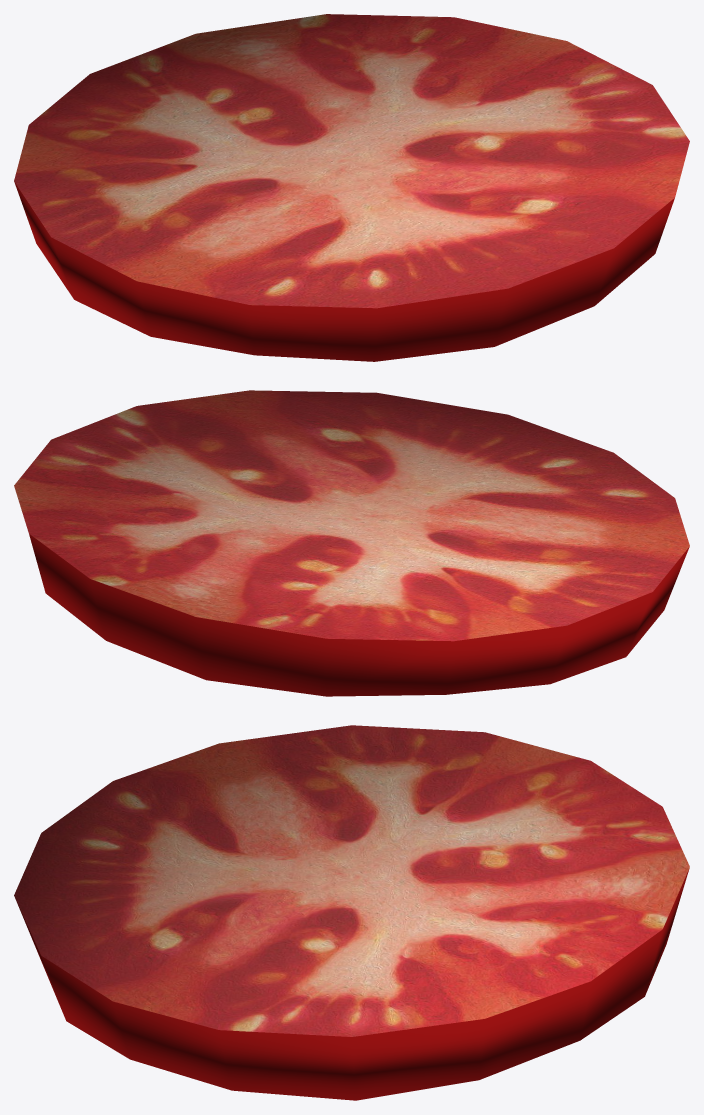
File: TOMATE FINAL.fbx
3 views of the same model, one above another, from view 1: azimuth 30°, elevation 25°; view 2: azimuth 150°, elevation 25°; view 3: azimuth 270°, elevation 25° (orthographic). The views are drawn at different scales.
Visible parts, largest first — view 1: TOMATE FINAL; view 2: TOMATE FINAL; view 3: TOMATE FINAL.
Boxes of the visible parts, x1,y1,x2,y2 form: TOMATE FINAL: (14,14,689,361); TOMATE FINAL: (14,390,689,696); TOMATE FINAL: (14,725,689,1100).
Size of the model in its own units: 3.86 by 0.5858 by 3.48.
Materials: 2 (1 with a texture image).
